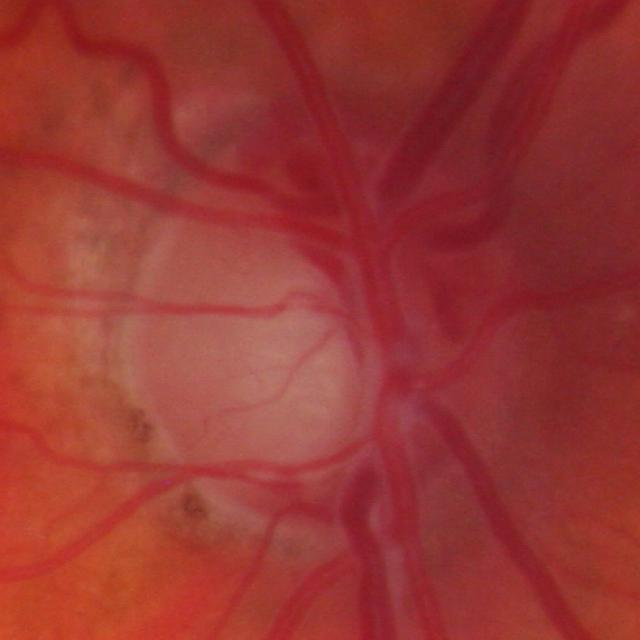OC: (219, 292, 371, 446)
OD: (136, 138, 534, 535)
